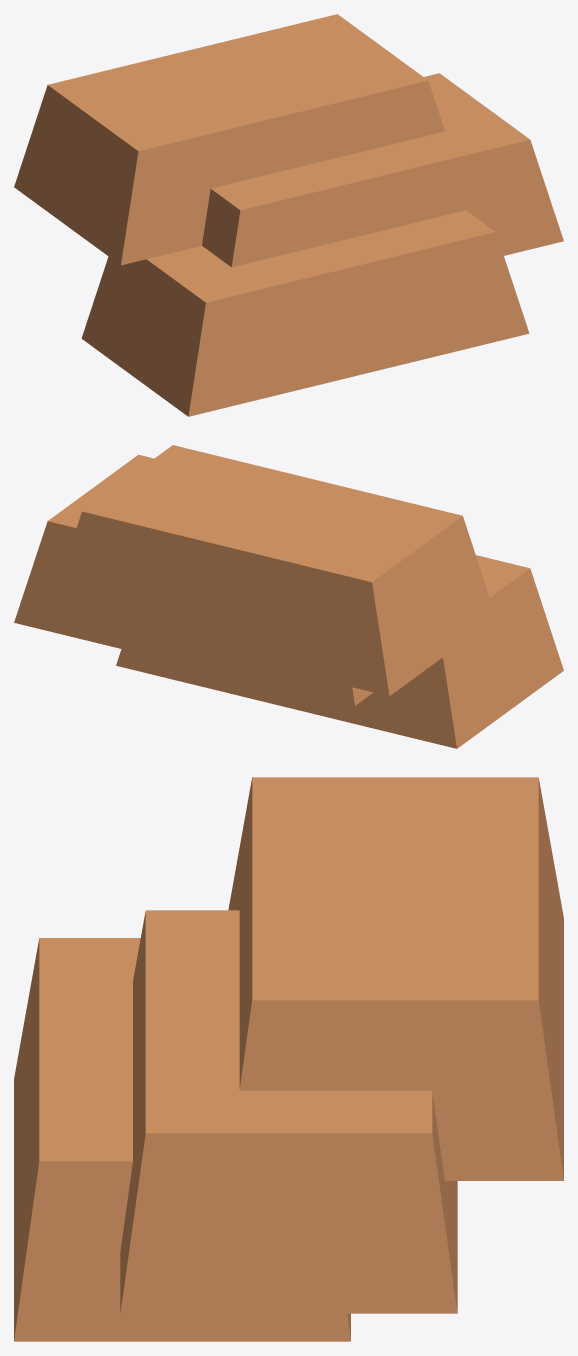
The model's file is item_076_copper_ingot_m.glb.
3 views of the same model, one above another, from view 1: azimuth 30°, elevation 25°; view 2: azimuth 150°, elevation 25°; view 3: azimuth 270°, elevation 25° (orthographic). The views are drawn at different scales.
Visible parts, largest first — view 1: item_076_copper_ingot_m; view 2: item_076_copper_ingot_m; view 3: item_076_copper_ingot_m.
Boxes of the visible parts, x1,y1,x2,y2 form: item_076_copper_ingot_m: (14,14,563,416); item_076_copper_ingot_m: (14,445,563,748); item_076_copper_ingot_m: (14,777,563,1341).
Bounding box in the file's own units: 0.42 × 0.2 × 0.31.
